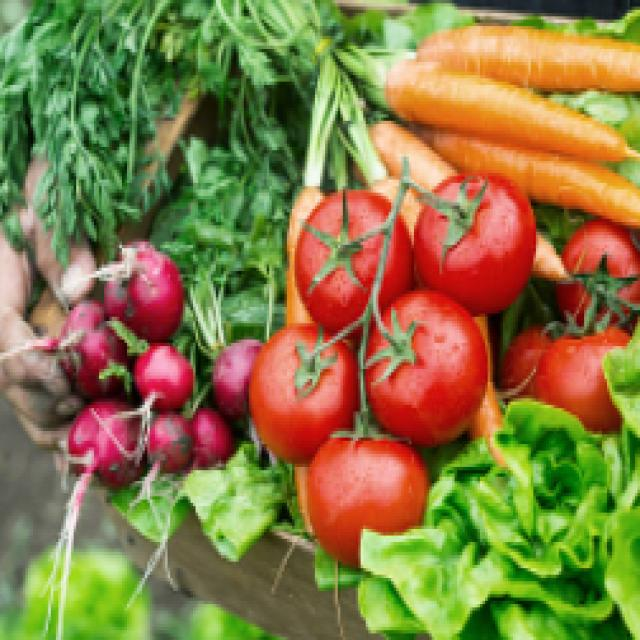Tomato: (403, 165, 543, 324), (366, 297, 487, 447), (316, 422, 441, 553), (303, 196, 411, 324), (253, 319, 355, 446)
